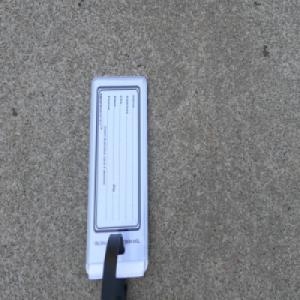LuggageTag: (81, 73, 148, 300)
